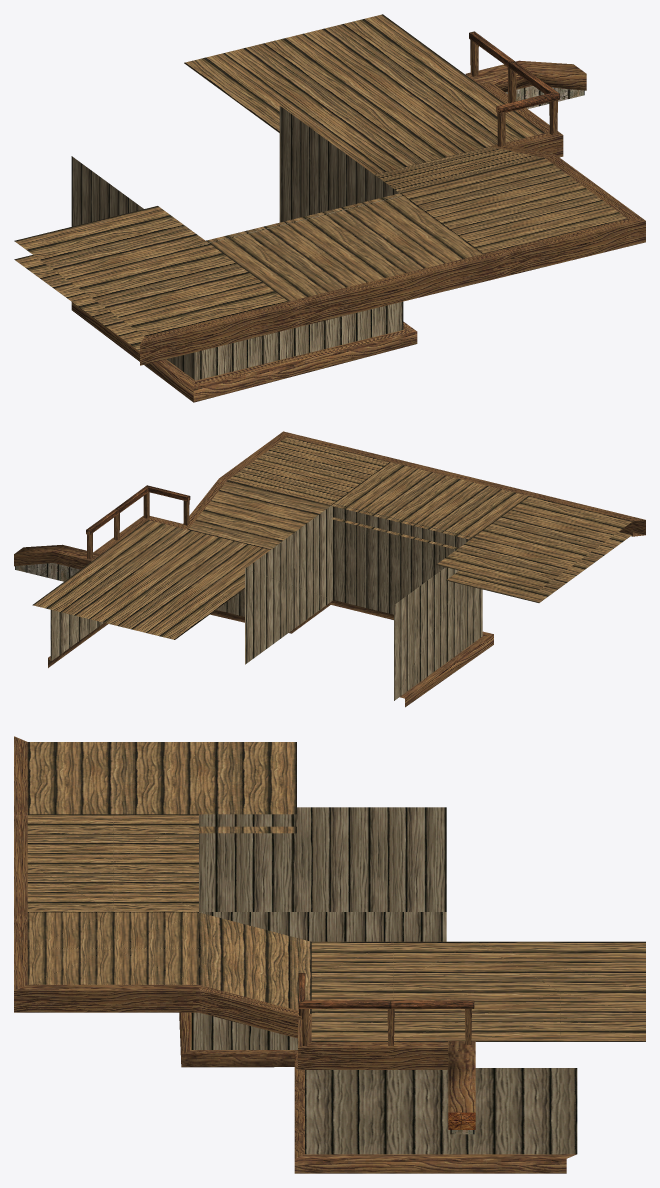
The model's file is LAKETOWN_EXTERIOR_PS_LT_DOCKPARTS7756__GX.fbx.
3 views of the same model, one above another, from view 1: azimuth 30°, elevation 25°; view 2: azimuth 150°, elevation 25°; view 3: azimuth 270°, elevation 25° (orthographic). The views are drawn at different scales.
Parts seen in each view (by area): view 1: LAKETOWN_EXTERIOR_PS_LT_DOCKPARTS7756__GX; view 2: LAKETOWN_EXTERIOR_PS_LT_DOCKPARTS7756__GX; view 3: LAKETOWN_EXTERIOR_PS_LT_DOCKPARTS7756__GX.
Part boxes in pixels (x1=…): LAKETOWN_EXTERIOR_PS_LT_DOCKPARTS7756__GX: x1=14, y1=14, x2=645, y2=402; LAKETOWN_EXTERIOR_PS_LT_DOCKPARTS7756__GX: x1=14, y1=431, x2=645, y2=707; LAKETOWN_EXTERIOR_PS_LT_DOCKPARTS7756__GX: x1=14, y1=736, x2=645, y2=1173.
Size of the model in its own units: 160001 by 37651 by 129246.
Materials: 7 (7 with a texture image).
